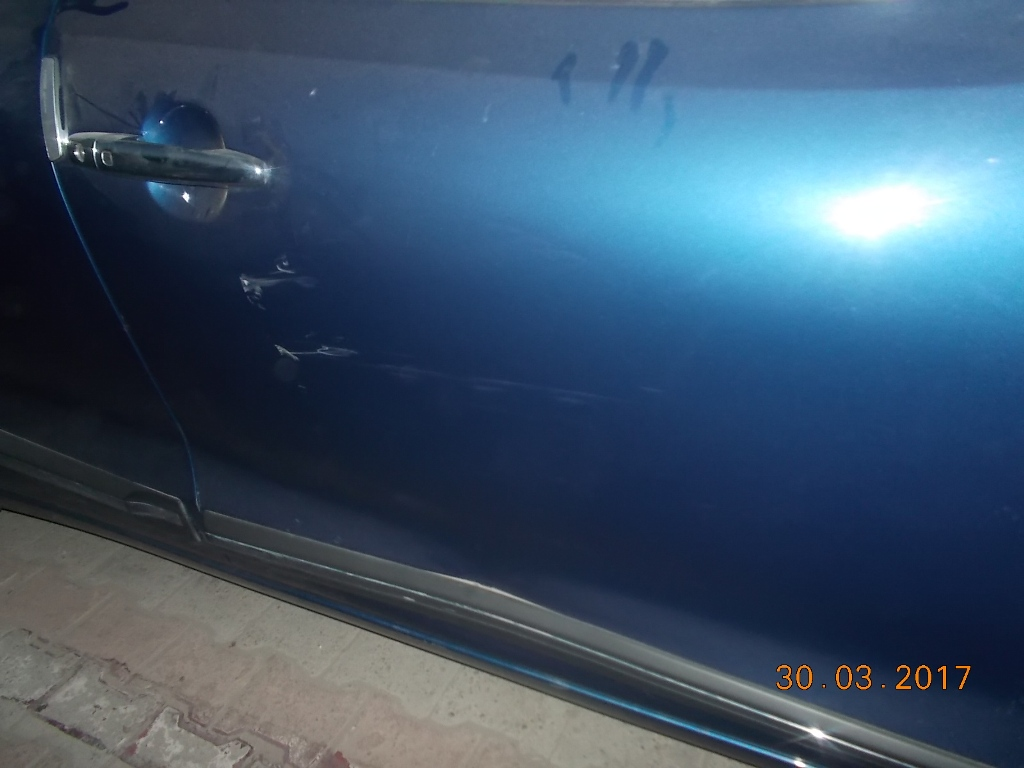Scratch_or_spot: (271, 321, 358, 372), (240, 263, 305, 299)
